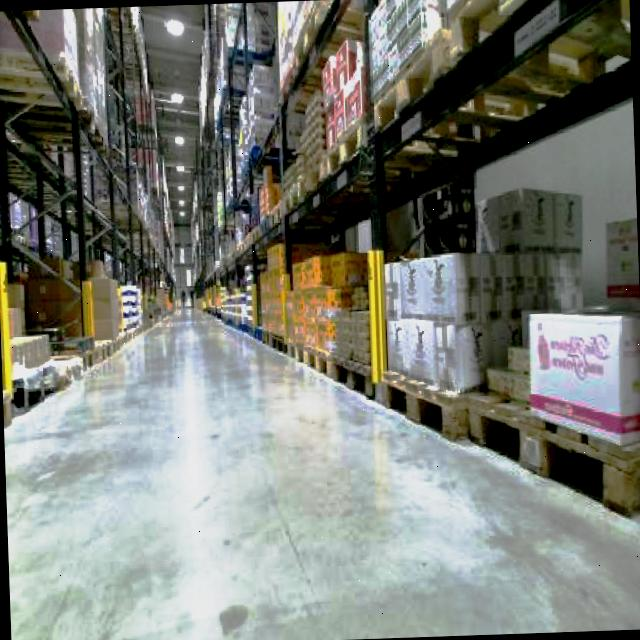ground: (0, 287, 640, 640)
pallet: (183, 0, 640, 540), (243, 229, 640, 532), (0, 5, 185, 640), (377, 357, 640, 526), (0, 234, 150, 437), (251, 239, 384, 402)
